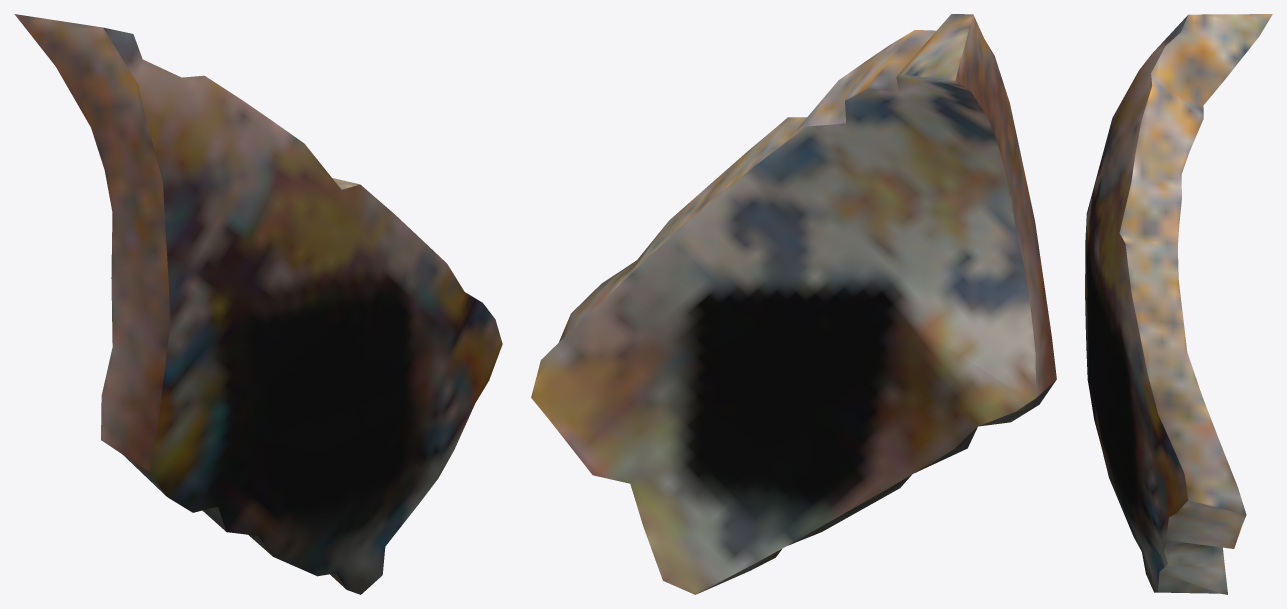
File: Ceramic012.gltf
3 renders of one model, left to right at view 1: azimuth 30°, elevation 25°; view 2: azimuth 150°, elevation 25°; view 3: azimuth 270°, elevation 25°, orthographic. The views are drawn at different scales.
Visible parts, largest first — view 1: Ceramic012, Ceramic012_002, Ceramic012_001, Ceramic012_003; view 2: Ceramic012, Ceramic012_002, Ceramic012_003, Ceramic012_001; view 3: Ceramic012, Ceramic012_002, Ceramic012_003, Ceramic012_001.
Part boxes in pixels (<box>): Ceramic012: <box>14,14,404,459</box>; Ceramic012_002: <box>324,224,502,440</box>; Ceramic012_001: <box>115,336,326,572</box>; Ceramic012_003: <box>308,386,458,594</box>; Ceramic012: <box>711,14,1055,400</box>; Ceramic012_002: <box>531,168,819,459</box>; Ceramic012_003: <box>580,331,835,594</box>; Ceramic012_001: <box>801,277,1056,537</box>; Ceramic012: <box>1085,14,1272,326</box>; Ceramic012_002: <box>1100,308,1246,542</box>; Ceramic012_003: <box>1103,369,1236,594</box>; Ceramic012_001: <box>1085,317,1127,522</box>.
Bounding box in the file's own units: 0.0628 × 0.084 × 0.0294.
Materials: 1 (1 with a texture image).
